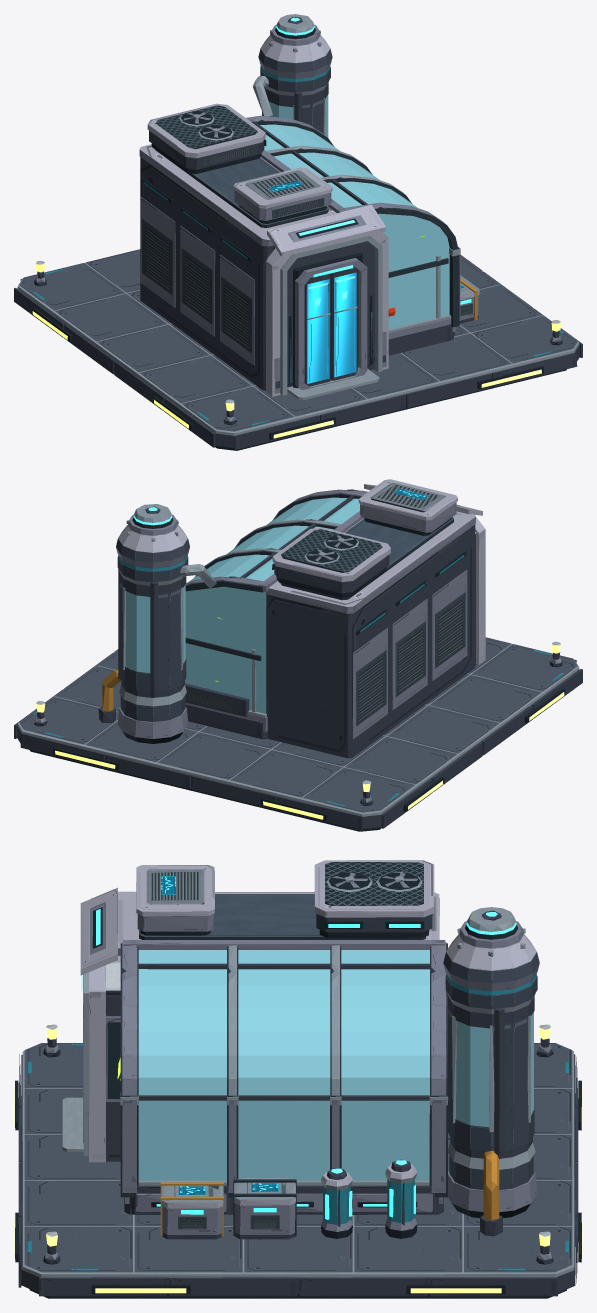
The model's file is GH03_GranjaHidroponicaAvanzada_Distancia.fbx.
3 renders of one model, top to bottom at view 1: azimuth 30°, elevation 25°; view 2: azimuth 150°, elevation 25°; view 3: azimuth 270°, elevation 25°, orthographic. The views are drawn at different scales.
Parts seen in each view (by area): view 1: EstructuraDistante_3, CristalDistante_3; view 2: EstructuraDistante_3, CristalDistante_3; view 3: EstructuraDistante_3, CristalDistante_3.
Part boxes in pixels (box(x1,y1,x2,y2)): EstructuraDistante_3: box(14, 14, 582, 450); CristalDistante_3: box(260, 94, 449, 329); EstructuraDistante_3: box(14, 479, 582, 831); CristalDistante_3: box(125, 497, 359, 713); EstructuraDistante_3: box(14, 860, 582, 1298); CristalDistante_3: box(138, 950, 533, 1180).
Size of the model in its own units: 6.75 by 4.2 by 6.81.
